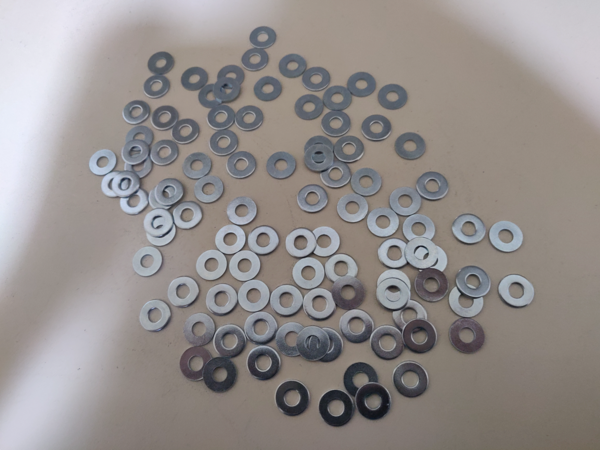circle: (318, 390, 355, 428), (355, 383, 392, 421), (392, 362, 430, 398), (449, 318, 485, 355), (308, 328, 344, 365), (275, 380, 311, 417), (392, 300, 429, 335), (332, 275, 367, 311), (275, 322, 309, 359), (371, 326, 406, 361), (246, 346, 281, 381), (339, 309, 374, 344), (498, 275, 534, 309), (296, 326, 330, 362), (377, 278, 412, 312), (414, 268, 448, 303), (449, 285, 484, 319), (179, 347, 213, 382), (344, 363, 378, 398), (404, 319, 437, 355), (203, 358, 236, 394), (244, 311, 278, 345), (490, 221, 525, 254), (182, 313, 215, 348), (378, 270, 411, 304), (270, 285, 304, 318), (214, 325, 247, 359), (452, 214, 486, 246), (456, 266, 490, 298), (139, 299, 171, 333), (307, 226, 341, 258), (325, 253, 359, 285), (167, 276, 199, 309), (247, 224, 280, 256), (303, 289, 336, 321), (238, 281, 270, 314), (205, 284, 238, 316), (403, 214, 437, 245), (378, 238, 410, 270), (405, 239, 438, 270), (284, 227, 317, 258), (292, 258, 325, 289), (350, 167, 382, 198), (132, 247, 164, 278), (230, 251, 261, 283), (296, 184, 329, 214), (321, 159, 352, 190), (196, 250, 227, 281), (367, 208, 399, 238), (336, 194, 368, 224), (265, 151, 297, 181), (417, 171, 450, 200), (415, 246, 448, 275), (215, 225, 246, 255), (390, 187, 422, 216), (171, 202, 204, 230), (146, 217, 176, 247), (227, 197, 258, 226), (361, 114, 393, 142), (394, 132, 426, 160), (303, 136, 335, 164), (182, 152, 212, 181), (303, 145, 334, 173), (193, 176, 224, 204), (119, 187, 148, 216), (226, 152, 256, 180), (210, 130, 239, 158), (125, 153, 154, 181), (144, 209, 173, 237), (100, 171, 130, 198), (150, 140, 179, 167), (112, 171, 141, 198), (155, 179, 184, 206), (378, 84, 408, 110), (295, 94, 325, 120), (335, 137, 365, 163), (235, 105, 263, 132), (324, 86, 353, 112), (321, 111, 350, 137), (89, 150, 118, 176), (148, 185, 177, 211), (125, 126, 155, 151), (151, 105, 179, 131), (207, 105, 235, 131), (348, 72, 377, 97), (121, 140, 150, 165), (171, 119, 199, 144), (254, 76, 282, 101), (303, 67, 331, 92), (148, 51, 177, 75), (215, 77, 241, 103), (124, 99, 150, 124), (181, 67, 208, 91), (199, 84, 225, 108), (250, 27, 277, 50), (242, 48, 269, 71), (144, 75, 171, 98), (279, 55, 307, 77), (218, 65, 245, 87)
